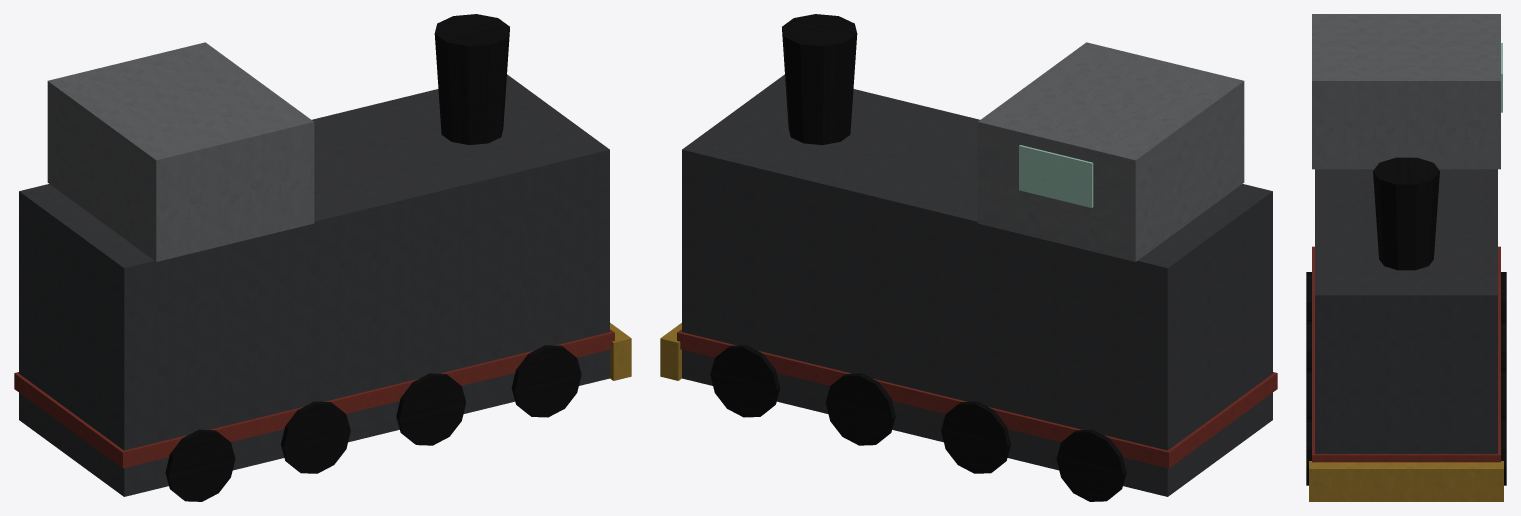
Rendered from fork_locomotive_01.glb.
3 views of the same model, side by side, from view 1: azimuth 30°, elevation 25°; view 2: azimuth 150°, elevation 25°; view 3: azimuth 270°, elevation 25° (orthographic). The views are drawn at different scales.
Visible parts, largest first — view 1: fork_locomotive_01; view 2: fork_locomotive_01; view 3: fork_locomotive_01.
Boxes of the visible parts, <box> form: fork_locomotive_01: <box>14,14,631,501</box>; fork_locomotive_01: <box>660,14,1277,501</box>; fork_locomotive_01: <box>1306,14,1506,501</box>.
Bounding box in the file's own units: 8.35 × 5.5 × 3.29.
6 materials, 6 textured.
